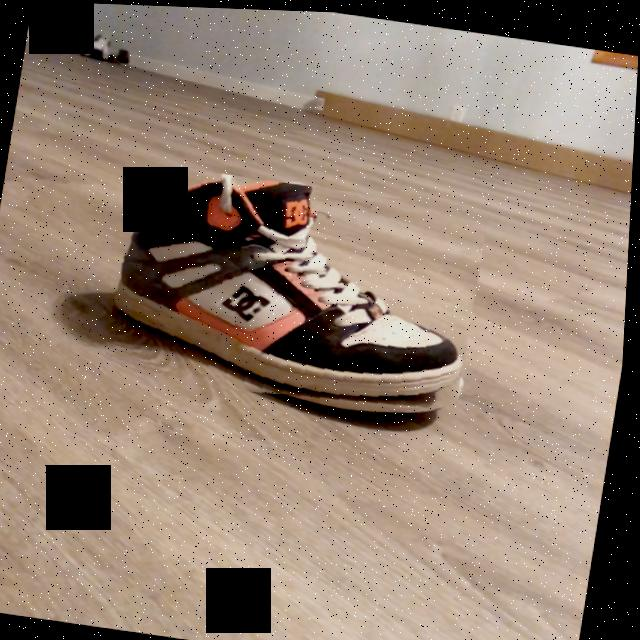shoe: (116, 176, 466, 403)
